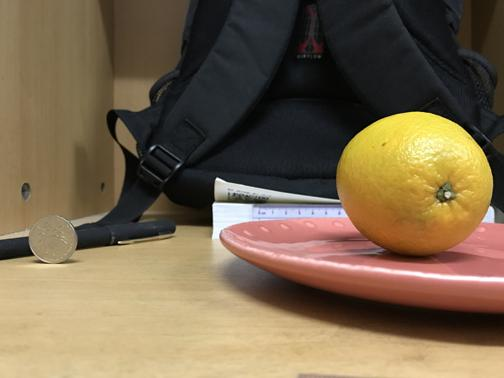coin: (30, 215, 77, 264)
orange: (335, 110, 493, 257)
